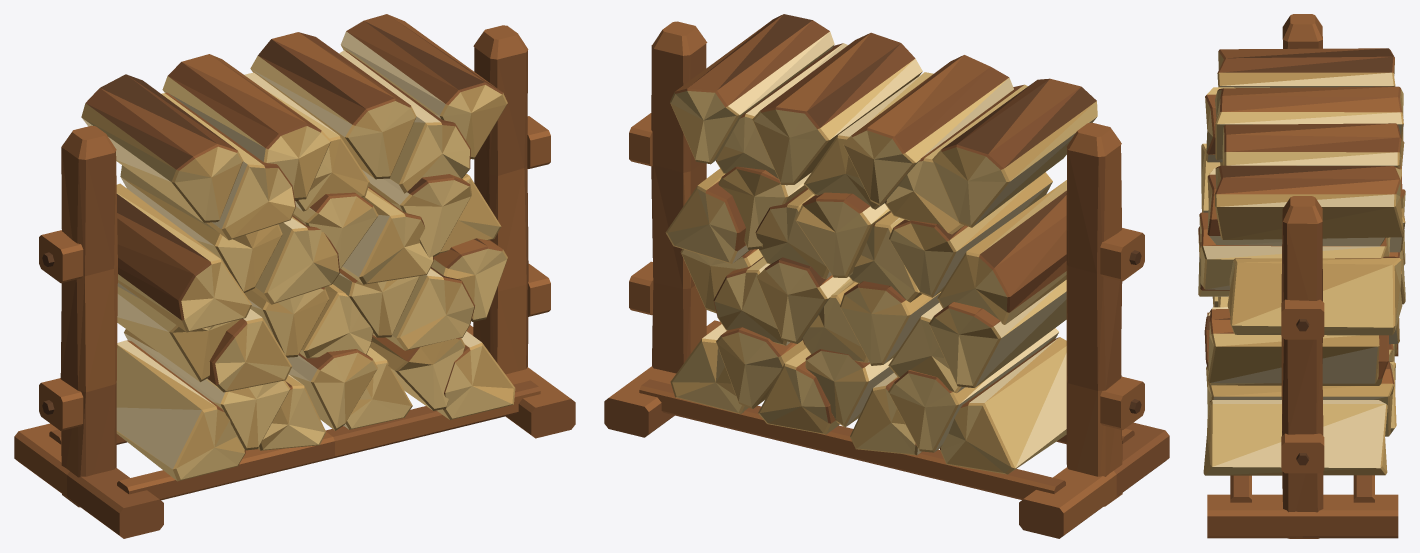
File: FMS_Wood_Firewood_Stack.fbx
3 renders of one model, left to right at view 1: azimuth 30°, elevation 25°; view 2: azimuth 150°, elevation 25°; view 3: azimuth 270°, elevation 25°, orthographic. The views are drawn at different scales.
Parts seen in each view (by area): view 1: FMS_Wood_Firewood_Stack; view 2: FMS_Wood_Firewood_Stack; view 3: FMS_Wood_Firewood_Stack.
Boxes of the visible parts, x1=… form: FMS_Wood_Firewood_Stack: x1=14, y1=14, x2=575, y2=538; FMS_Wood_Firewood_Stack: x1=604, y1=14, x2=1169, y2=538; FMS_Wood_Firewood_Stack: x1=1198, y1=14, x2=1405, y2=538.
Size of the model in its own units: 1.7 by 1.18 by 0.6742.
